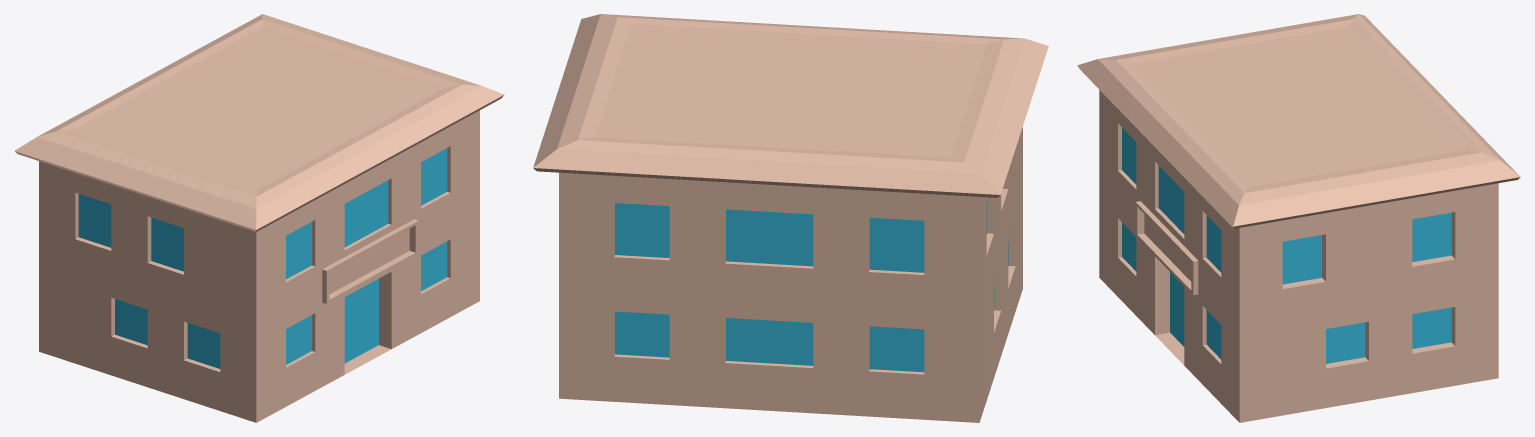
Rendered from Prototype V3.fbx.
3 renders of one model, left to right at view 1: azimuth 30°, elevation 25°; view 2: azimuth 150°, elevation 25°; view 3: azimuth 270°, elevation 25°, orthographic. The views are drawn at different scales.
Parts seen in each view (by area): view 1: Cubo.005; view 2: Cubo.005; view 3: Cubo.005.
Boxes of the visible parts, box(x1,y1,x2,y2) form: Cubo.005: box(14, 14, 504, 422); Cubo.005: box(533, 14, 1048, 422); Cubo.005: box(1077, 14, 1520, 422).
Size of the model in its own units: 1139 by 559 by 1012.
